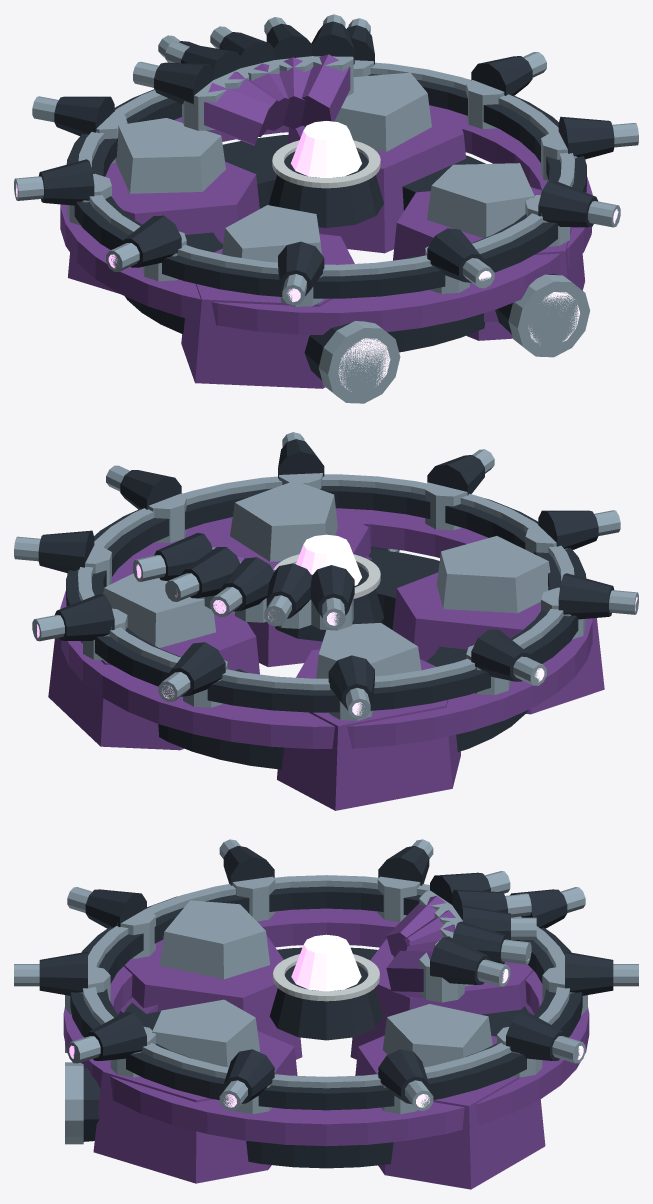
File: asteroidBoss.glb
The picture shows the model from 3 angles, top to bottom: view 1: azimuth 30°, elevation 25°; view 2: azimuth 150°, elevation 25°; view 3: azimuth 270°, elevation 25°; orthographic projection.
Parts seen in each view (by area): view 1: asteroidBoss / Armor, asteroidBoss / Titanium, ring_rotor / Chassis, ring_rotor / Titanium, asteroidBoss / Chassis, asteroidBoss / Energy, asteroidBoss / Identification; view 2: asteroidBoss / Armor, ring_rotor / Chassis, asteroidBoss / Titanium, ring_rotor / Titanium, asteroidBoss / Chassis, asteroidBoss / Energy, asteroidBoss / Identification; view 3: asteroidBoss / Armor, ring_rotor / Chassis, asteroidBoss / Titanium, ring_rotor / Titanium, asteroidBoss / Chassis, asteroidBoss / Energy, asteroidBoss / Identification.
Boxes of the visible parts, box(x1,y1,x2,y2) form: asteroidBoss / Armor: box(60, 54, 592, 388); asteroidBoss / Titanium: box(115, 14, 590, 403); ring_rotor / Chassis: box(39, 25, 614, 298); ring_rotor / Titanium: box(14, 18, 638, 306); asteroidBoss / Chassis: box(124, 21, 556, 380); asteroidBoss / Energy: box(291, 121, 579, 391); asteroidBoss / Identification: box(272, 140, 380, 188); asteroidBoss / Armor: box(48, 508, 604, 810); ring_rotor / Chassis: box(38, 439, 614, 712); asteroidBoss / Titanium: box(103, 480, 550, 678); ring_rotor / Titanium: box(14, 432, 638, 720); asteroidBoss / Chassis: box(154, 533, 527, 769); asteroidBoss / Energy: box(136, 534, 361, 625); asteroidBoss / Identification: box(273, 554, 380, 598); asteroidBoss / Armor: box(63, 895, 589, 1189); ring_rotor / Chassis: box(39, 846, 613, 1110); asteroidBoss / Titanium: box(65, 871, 536, 1144); ring_rotor / Titanium: box(14, 839, 638, 1114); asteroidBoss / Chassis: box(83, 872, 528, 1168); asteroidBoss / Energy: box(291, 934, 530, 991); asteroidBoss / Identification: box(273, 954, 379, 1001).
Bounding box in the file's own units: 2.12 × 0.73 × 2.2.
